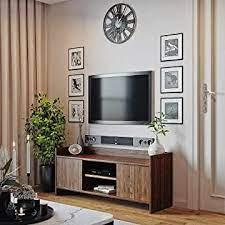TV: (87, 71, 151, 125)
clock: (100, 1, 139, 43)
console: (54, 149, 179, 208)
door: (200, 0, 224, 212)
table: (0, 195, 118, 225)
